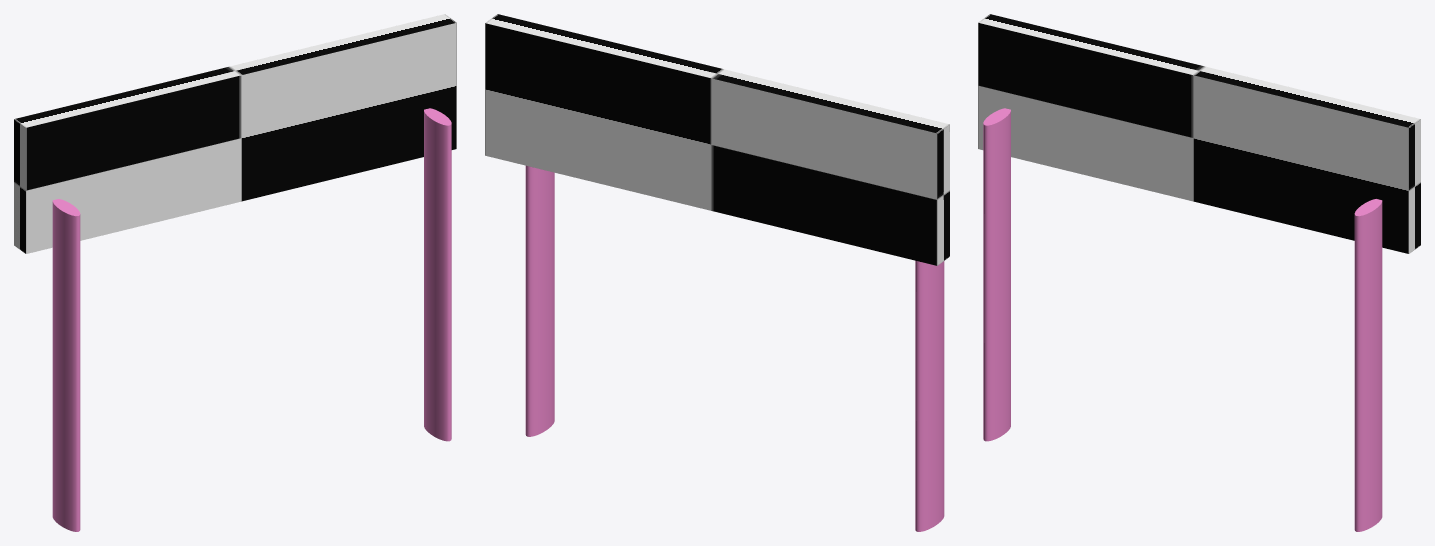
The model's file is EndSign.fbx.
The picture shows the model from 3 angles, left to right: view 1: azimuth 30°, elevation 25°; view 2: azimuth 150°, elevation 25°; view 3: azimuth 330°, elevation 25°; orthographic projection. The views are drawn at different scales.
Visible parts, largest first — view 1: Cube__2_, Pole, Pole_1; view 2: Cube__2_, Pole, Pole_1; view 3: Cube__2_, Pole_1, Pole.
Part boxes in pixels (x1,y1,x2,y2): Cube__2_: (14, 14, 456, 253); Pole: (52, 199, 80, 531); Pole_1: (424, 108, 451, 441); Cube__2_: (485, 14, 949, 265); Pole: (915, 260, 944, 531); Pole_1: (525, 165, 554, 436); Cube__2_: (978, 14, 1420, 253); Pole_1: (1354, 199, 1382, 531); Pole: (983, 108, 1010, 441).
Size of the model in its own units: 523 by 458 by 72.5.
